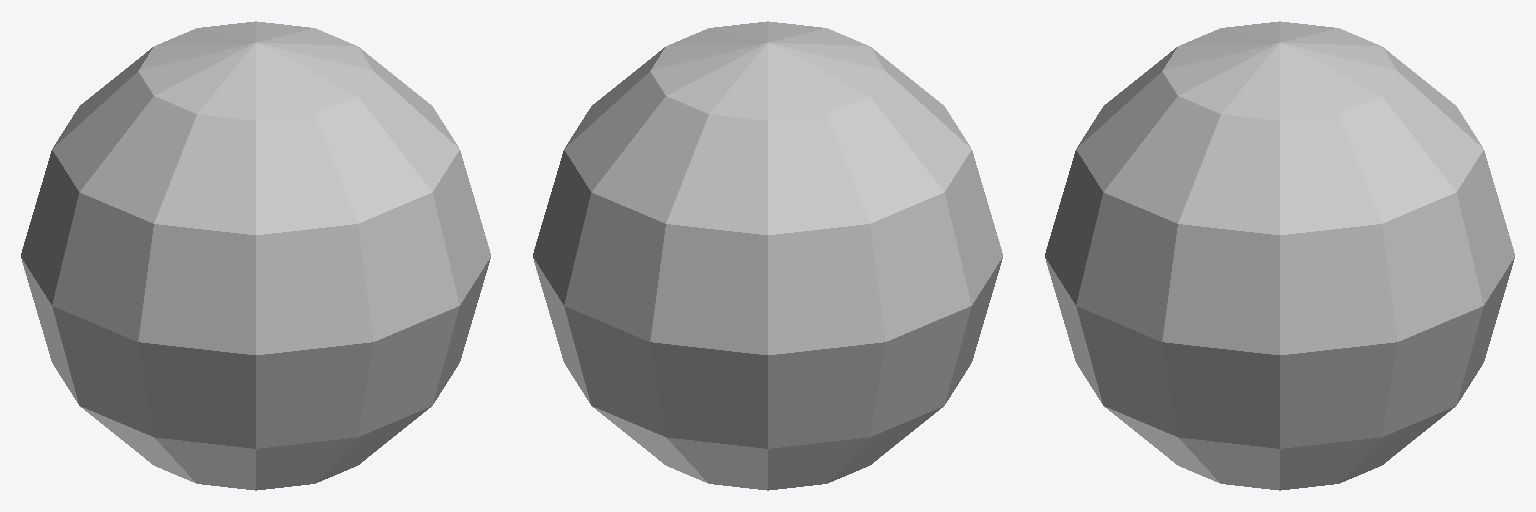
The model's file is coconut.obj.
The picture shows the model from 3 angles: view 1: azimuth 30°, elevation 25°; view 2: azimuth 150°, elevation 25°; view 3: azimuth 270°, elevation 25°; orthographic projection.
Parts seen in each view (by area): view 1: Coconut_Sphere.001; view 2: Coconut_Sphere.001; view 3: Coconut_Sphere.001.
Part boxes in pixels (x1,y1,x2,y2): Coconut_Sphere.001: (21, 21, 490, 490); Coconut_Sphere.001: (533, 21, 1002, 490); Coconut_Sphere.001: (1045, 21, 1514, 490).
Size of the model in its own units: 0.4 by 0.4 by 0.4.